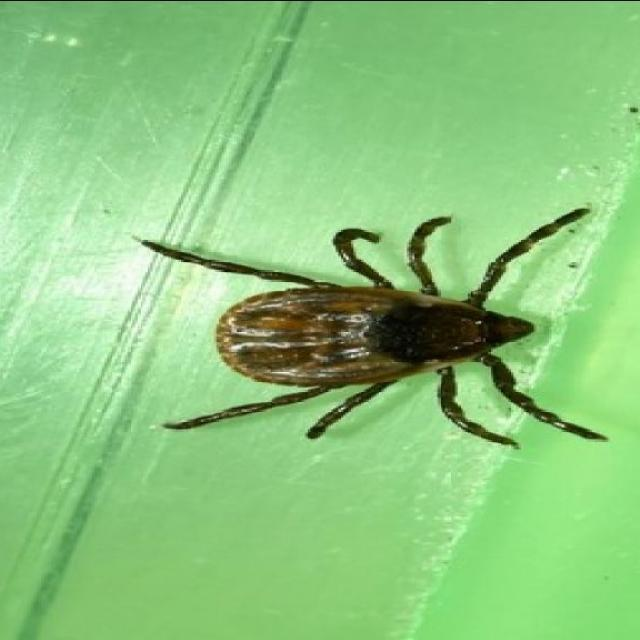Rhipicephalus Sanguineus-F: (143, 208, 607, 448)
